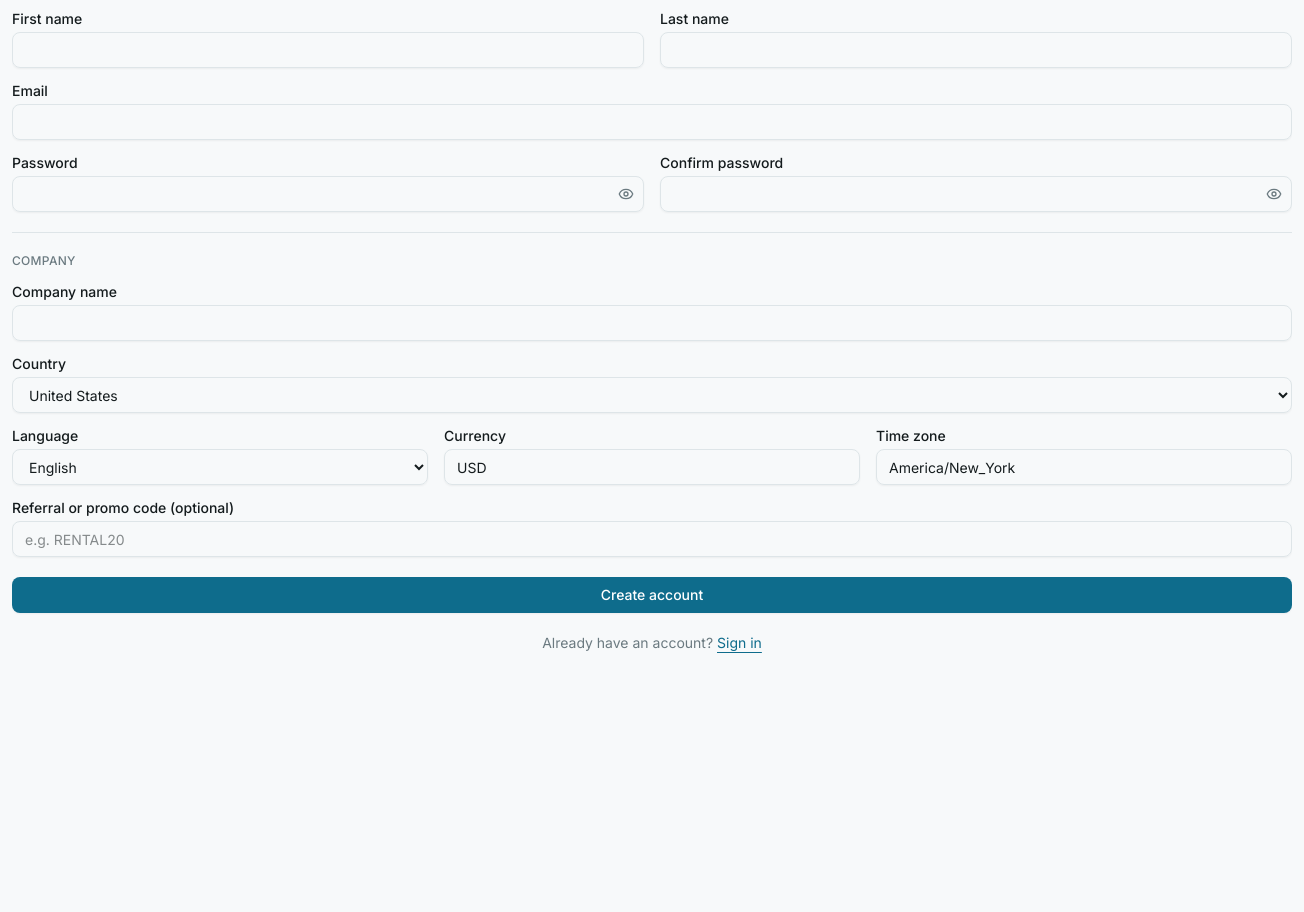
Scenario: RegisterForm › shows validation errors for invalid email, weak password, and mismatched confirmation
The image size is (1304, 912).
Type "A" into the field labelled "First name". click: (328, 50)
box: [12,32,644,68]
Type "B" into the field labelled "Last name". click: (976, 50)
box: [660,32,1292,68]
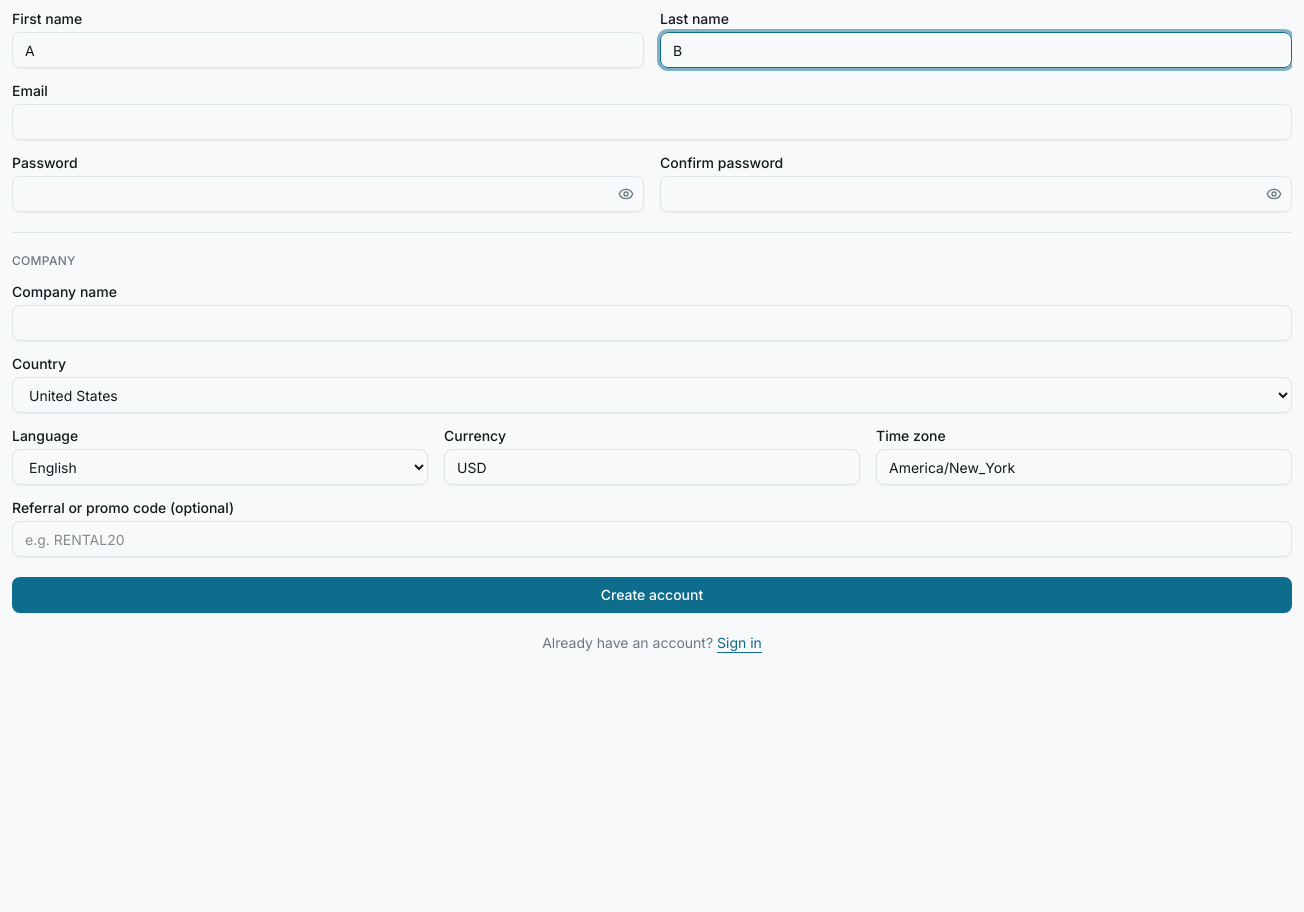
Type "not-an-email" into the field labelled "Email". click: (652, 122)
box: [12,104,1292,140]
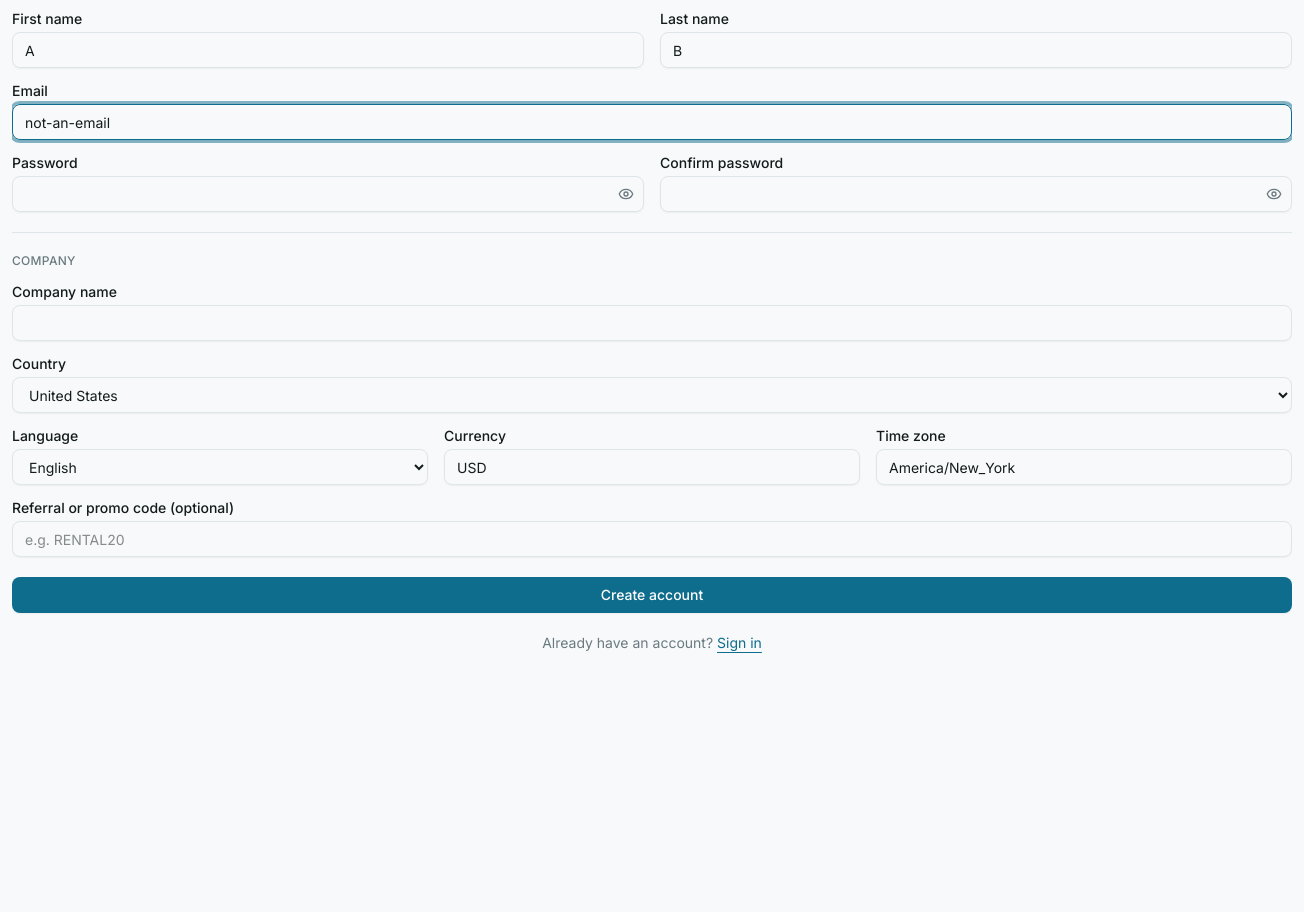
Type "short" into the password field labelled "Password". click: (328, 194)
box: [12,176,644,212]
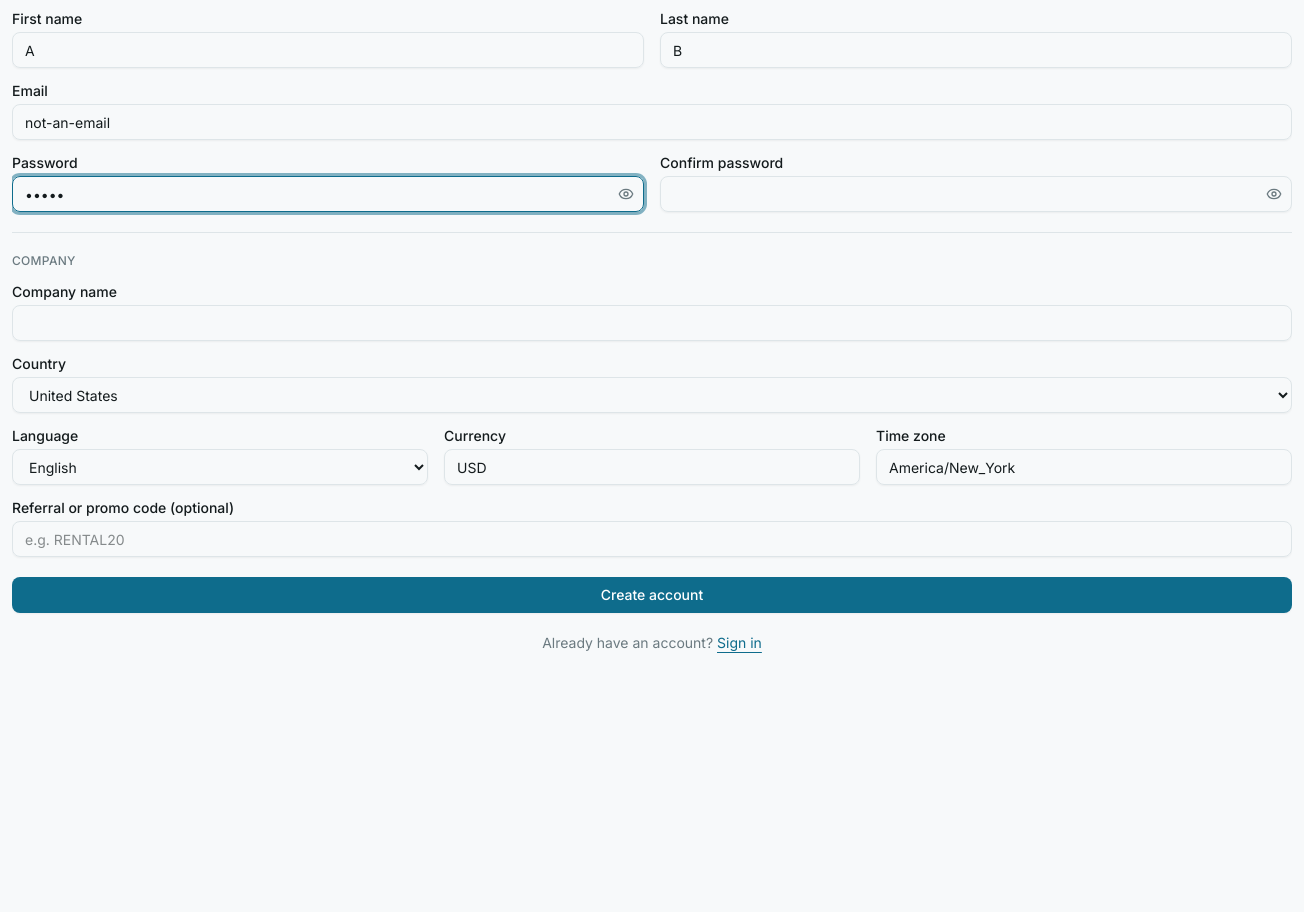
Type "different" into the password field labelled "Confirm password". click: (976, 194)
box: [660,176,1292,212]
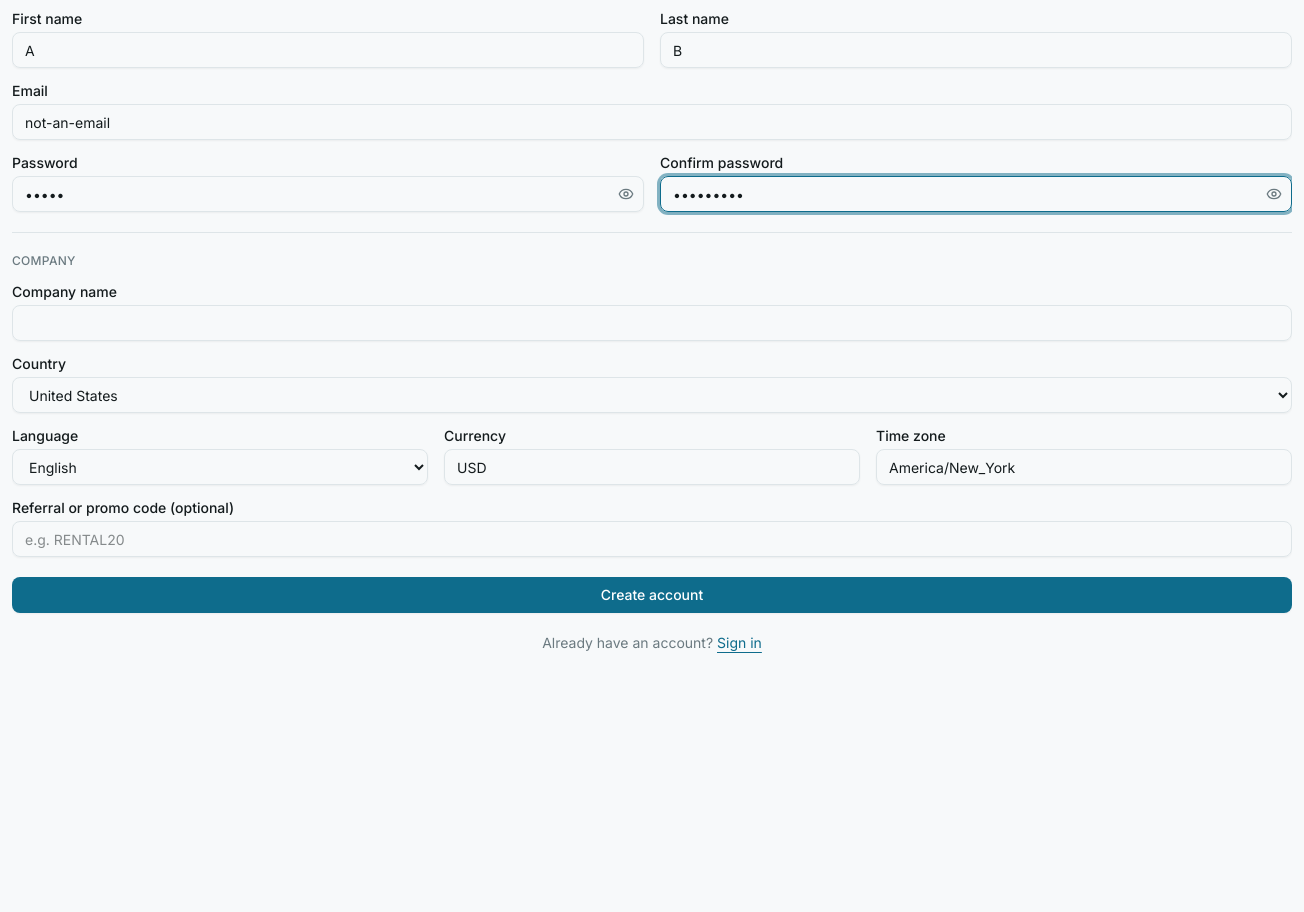
Type "Co" into the field labelled "Company name". click: (652, 323)
box: [12,305,1292,341]
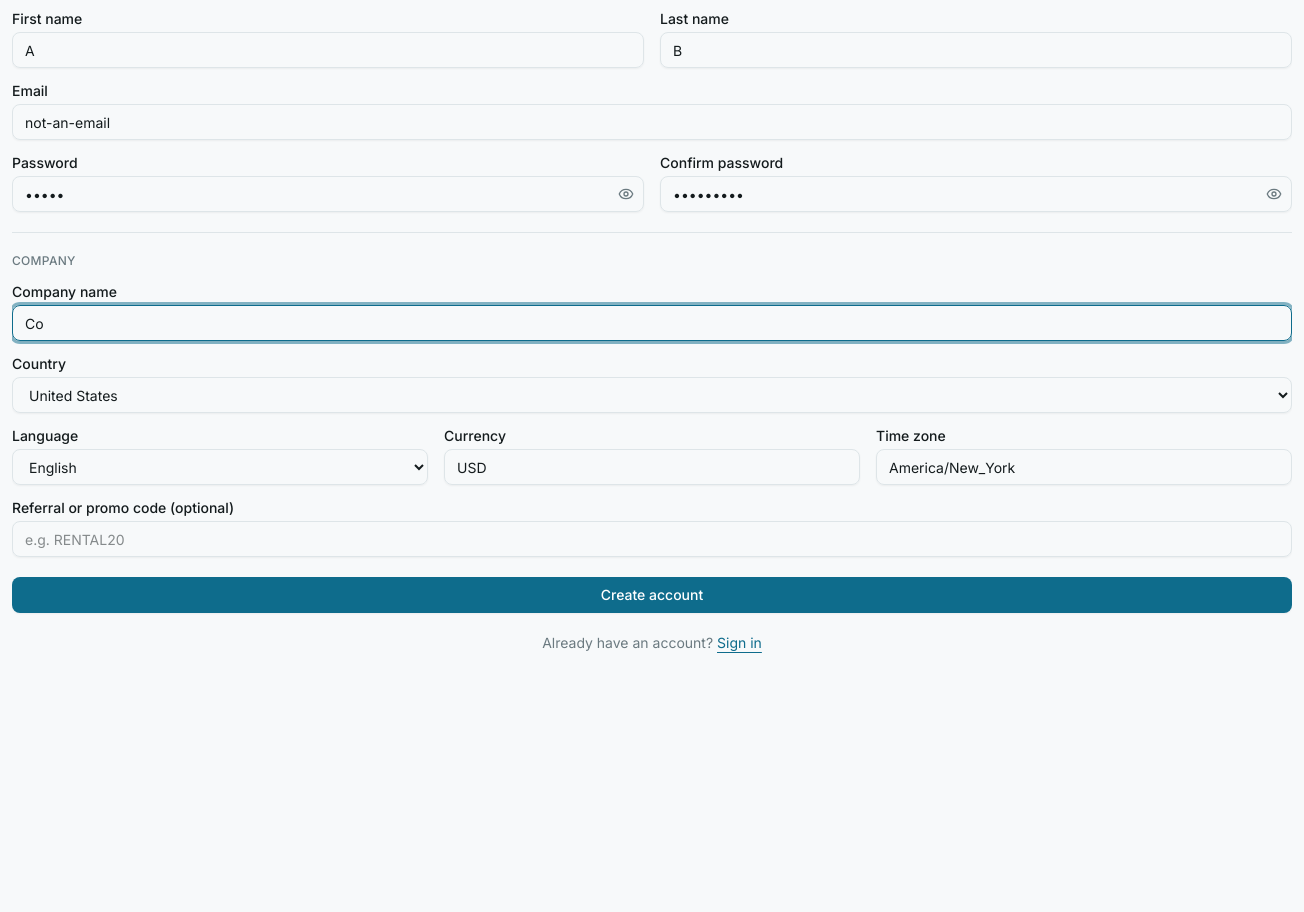
Click the button "Create account". click: (652, 595)
box: [12,577,1292,613]
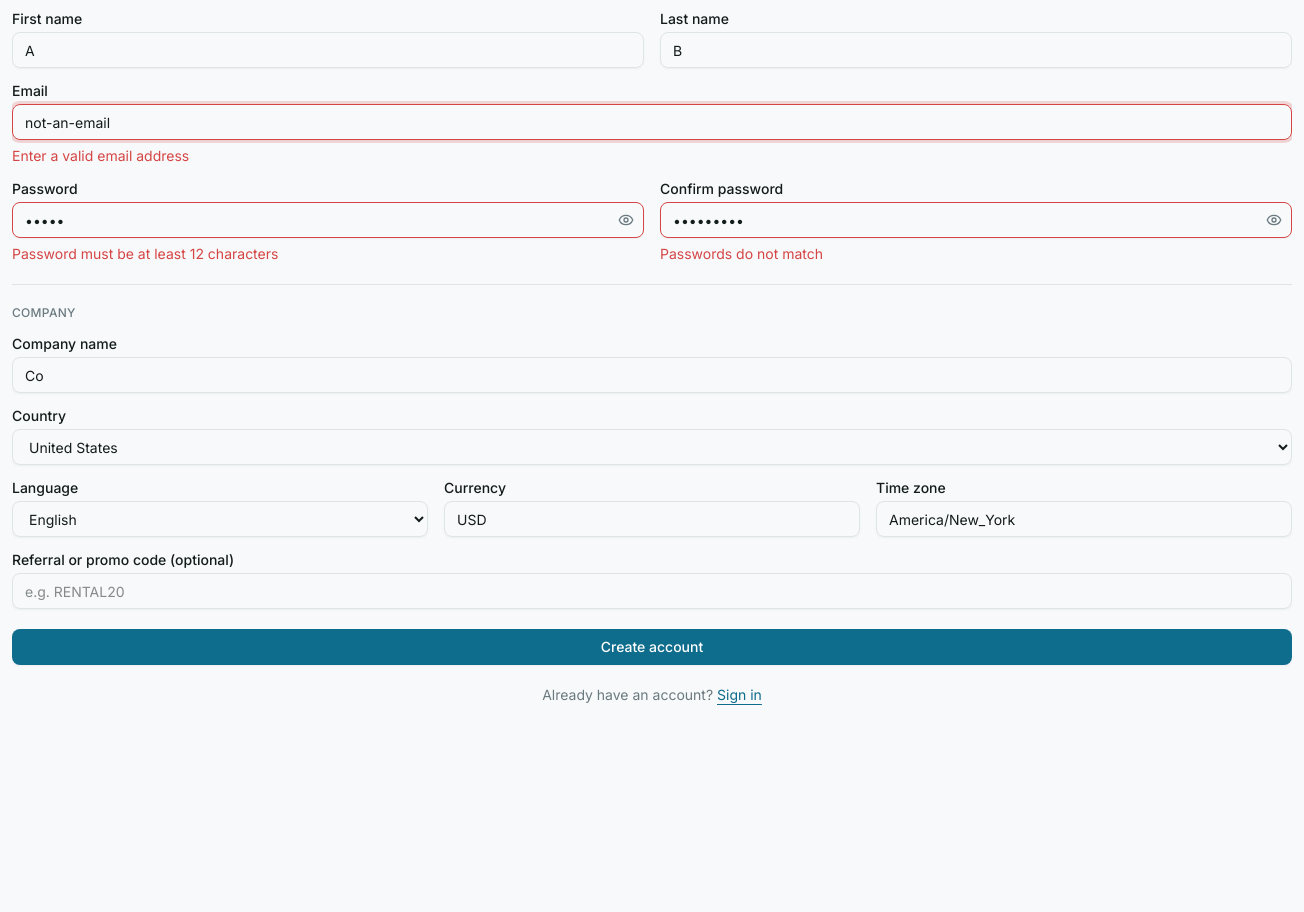
Expected: the text "Enter a valid email address" is shown, [12,147,189,164]
Expected: the text "Password must be at least 12 characters" is shown, [12,245,278,262]
Expected: the text "Passwords do not match" is shown, [660,245,823,262]
